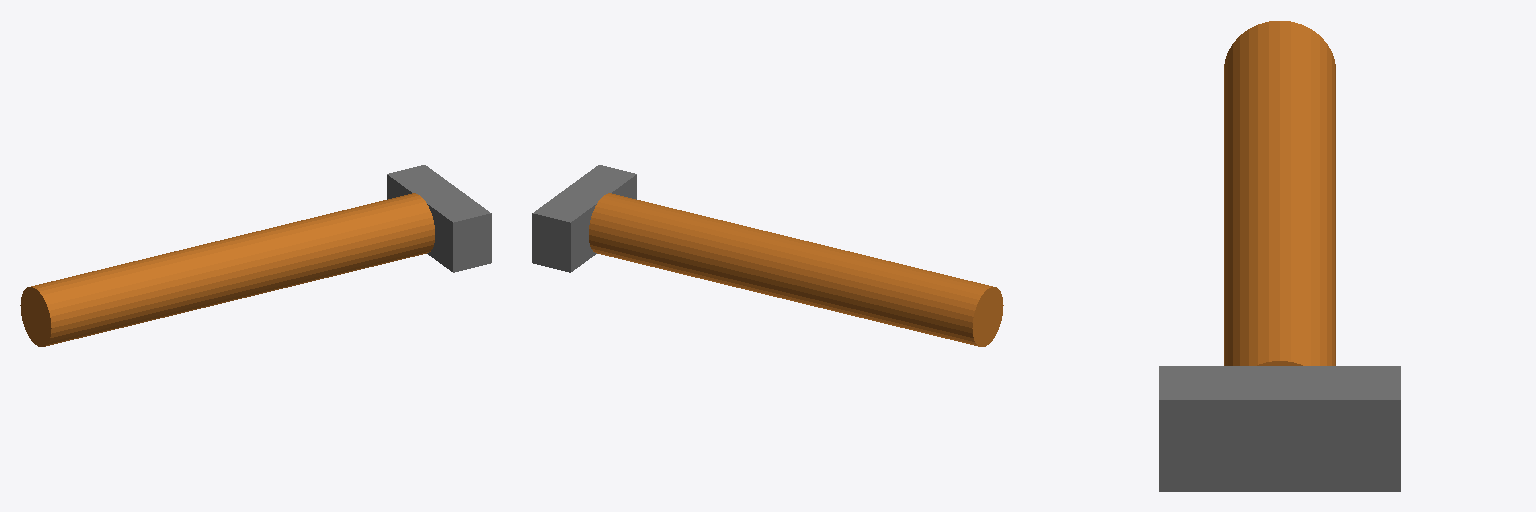
robot.urdf — hammer:
<?xml version="1.0"?>
<robot name="hammer">
  <link name="hammer">
    <!-- Origin at handle centre. Handle runs along x-axis so the hand
         grips it with a power grip (handle across the palm) and rotates
         it about the handle's long axis. -->

    <!-- Handle: 20 cm long, 14 mm radius (~real hammer grip size), along x-axis -->
    <visual>
      <origin xyz="0 0 0" rpy="0 1.5708 0"/>
      <geometry>
        <cylinder radius="0.014" length="0.20"/>
      </geometry>
      <material name="wood">
        <color rgba="0.8 0.5 0.2 1.0"/>
      </material>
    </visual>
    <collision>
      <origin xyz="0 0 0" rpy="0 1.5708 0"/>
      <geometry>
        <cylinder radius="0.014" length="0.20"/>
      </geometry>
    </collision>

    <!-- Head: at the +x end of the handle; long face along y (perpendicular
         to handle), so it looks like a real hammer head -->
    <visual>
      <origin xyz="0.11 0 0" rpy="0 0 0"/>
      <geometry>
        <box size="0.02 0.06 0.025"/>
      </geometry>
      <material name="iron">
        <color rgba="0.5 0.5 0.5 1.0"/>
      </material>
    </visual>
    <collision>
      <origin xyz="0.11 0 0" rpy="0 0 0"/>
      <geometry>
        <box size="0.02 0.06 0.025"/>
      </geometry>
    </collision>

    <!-- CoM biased toward head end along x -->
    <inertial>
      <origin xyz="0.04 0 0" rpy="0 0 0"/>
      <mass value="0.15"/>
      <!-- Ixx (spin about handle axis) tiny; Iyy/Izz account for length -->
      <inertia ixx="0.00001" ixy="0.0" ixz="0.0"
               iyy="0.0003"  iyz="0.0"
               izz="0.0003"/>
    </inertial>
  </link>
</robot>

--- What the picture shows (computed from the rendered views, not written in the file) ---
3 views of the same robot in one strip: view 1: azimuth 30°, elevation 25°; view 2: azimuth 150°, elevation 25°; view 3: azimuth 270°, elevation 25° (orthographic).
Model hammer with 1 links and 0 joints (none), rooted at hammer, posed all joints at 0.
Visible links, largest first — view 1: hammer; view 2: hammer; view 3: hammer.
Boxes of the visible links, x1,y1,x2,y2 form: hammer: [20, 165, 491, 346]; hammer: [532, 165, 1003, 346]; hammer: [1159, 21, 1400, 491].
Bounding box of the posed robot: 0.22 × 0.06 × 0.028 m (x, y, z).
Geometry: primitives only (box / cylinder / sphere), no mesh files.
